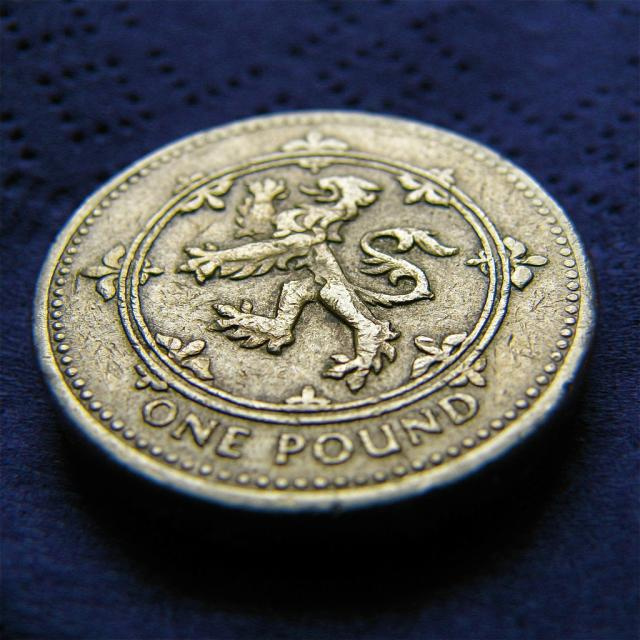Coin: (33, 110, 597, 518)
